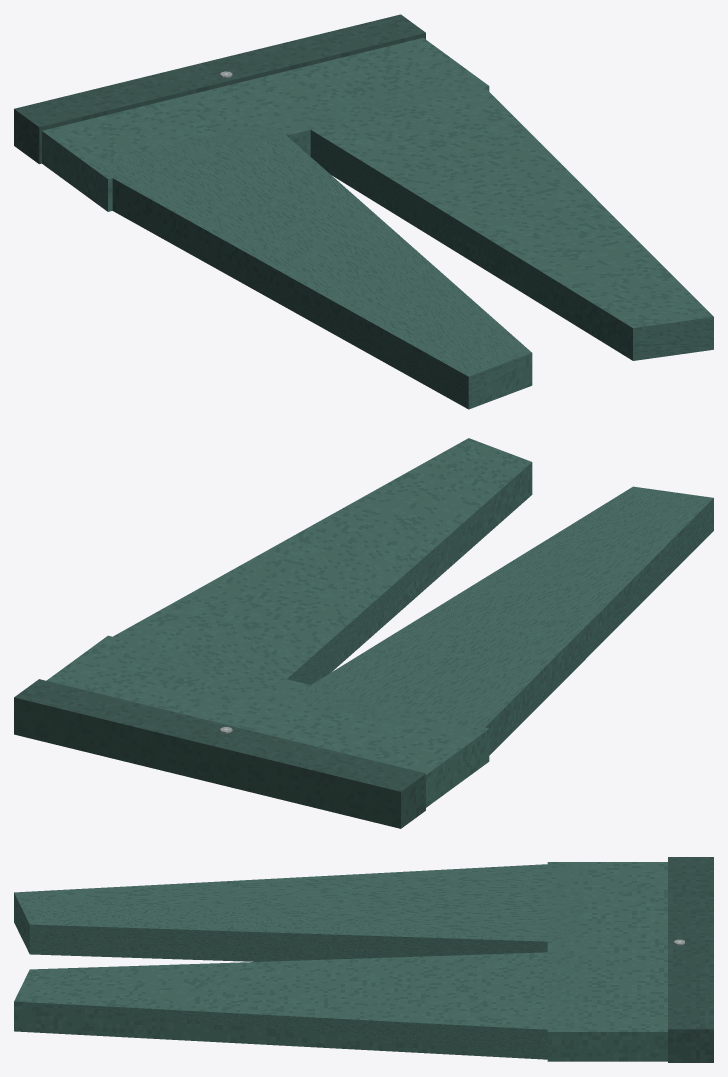
Rendered from leggings.glb.
3 views of the same model, one above another, from view 1: azimuth 30°, elevation 25°; view 2: azimuth 150°, elevation 25°; view 3: azimuth 270°, elevation 25° (orthographic). The views are drawn at different scales.
Parts seen in each view (by area): view 1: block_leg -1, block_leg 1, block_seat, block_waistband; view 2: block_leg -1, block_leg 1, block_waistband, block_seat; view 3: block_leg 1, block_leg -1, block_seat, block_waistband.
Part boxes in pixels (x1,y1,x2,y2): block_leg -1: (87,121,532,409); block_leg 1: (290,71,713,360); block_seat: (42,37,489,211); block_waistband: (14,14,425,164); block_leg -1: (290,486,713,755); block_leg 1: (87,438,532,684); block_waistband: (14,679,425,828); block_seat: (46,635,489,807); block_leg 1: (14,951,585,1059); block_leg -1: (14,862,585,961); block_seat: (547,862,667,1061); block_waistband: (668,857,713,1062).
Bounding box in the file's own units: 0.284 × 0.027 × 0.488.
Materials: 1 (1 with a texture image).
